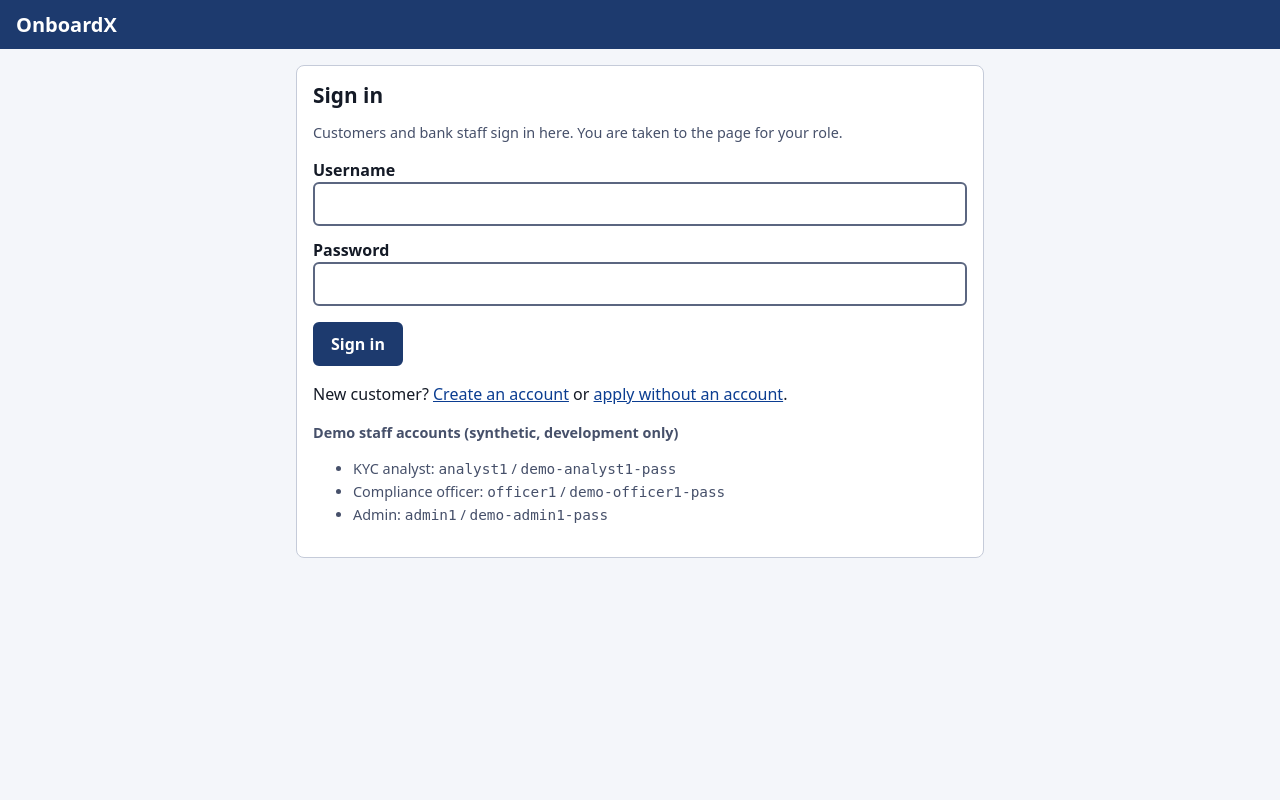
Test case: SignupPage › AC-14.8: the sign-in page shows the pending-approval message
Step 1. Type "officer.two" into the field labelled "Username" → coordinates (640, 204), box [313,182,967,226]
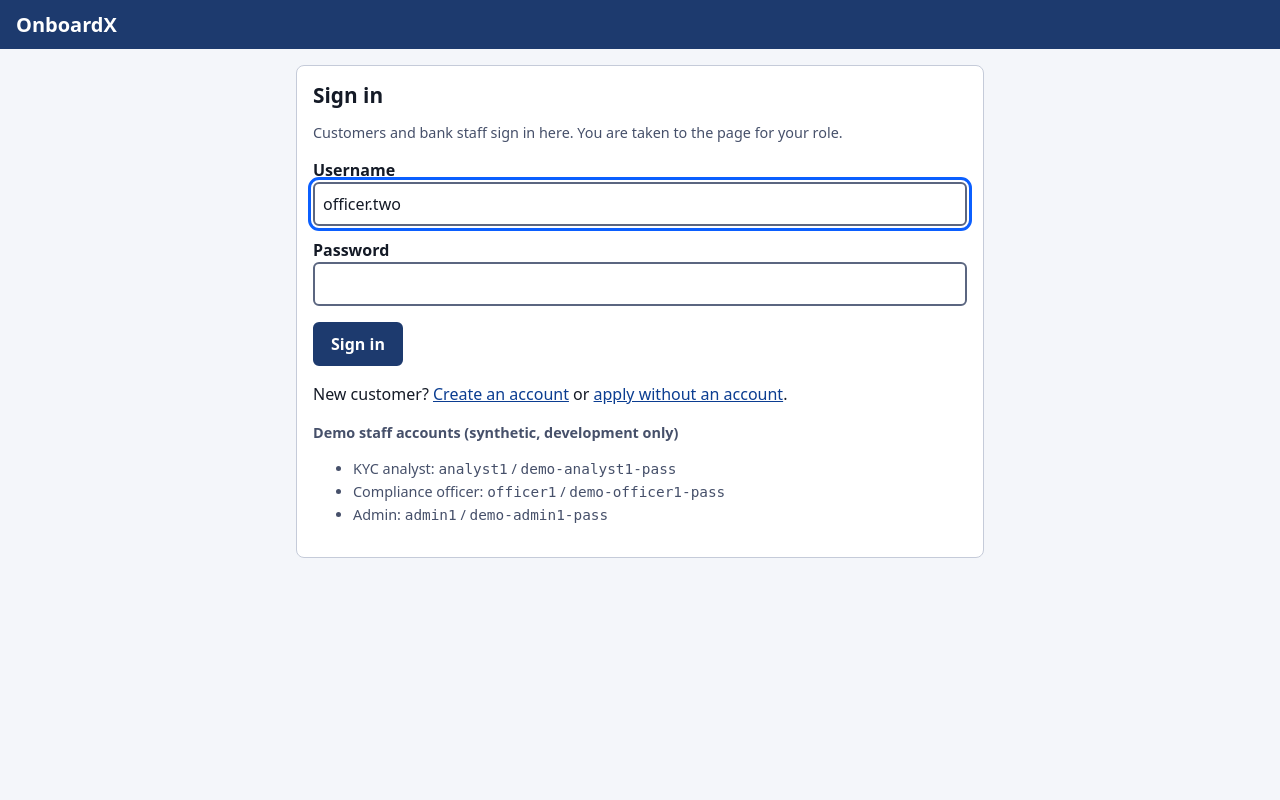
Step 2. Type "synthetic-pass" into the password field labelled "Password" → coordinates (640, 284), box [313,262,967,306]
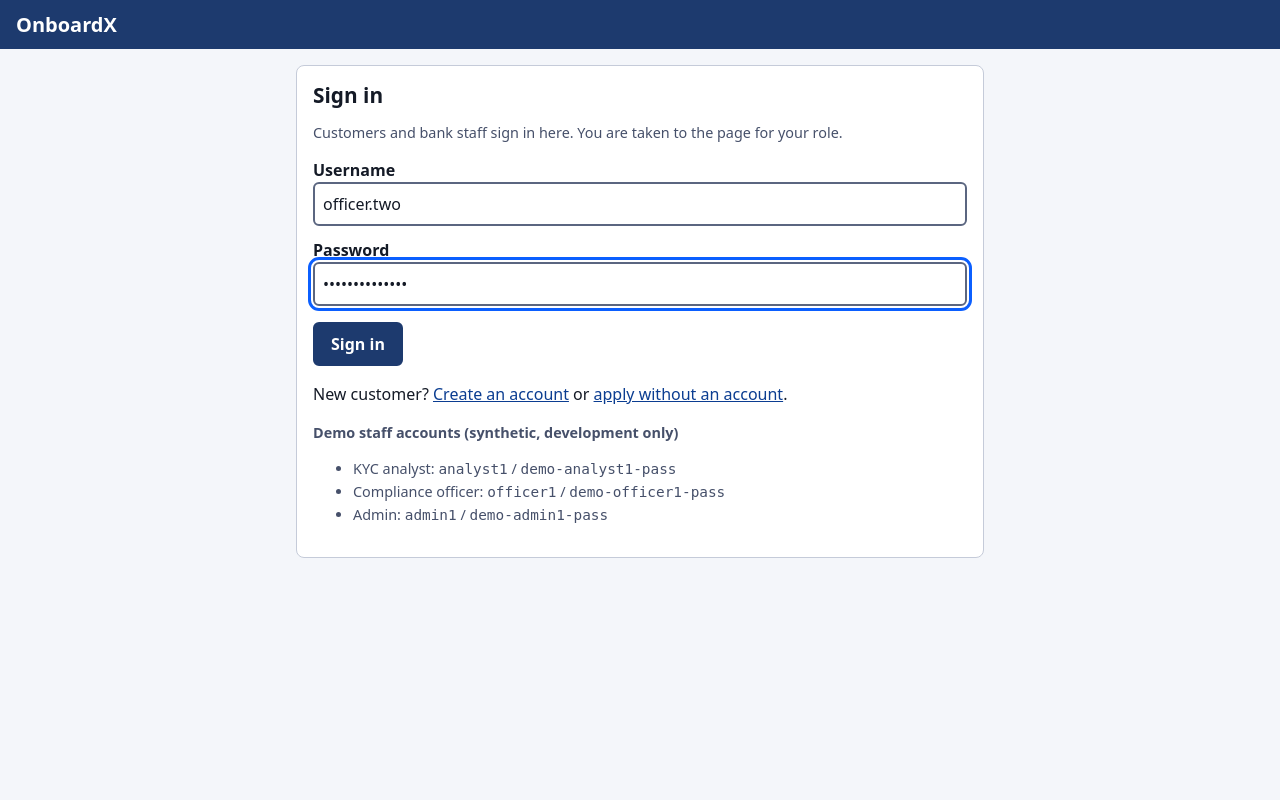
Step 3. Click the button "Sign in" → coordinates (358, 344), box [313,322,403,366]
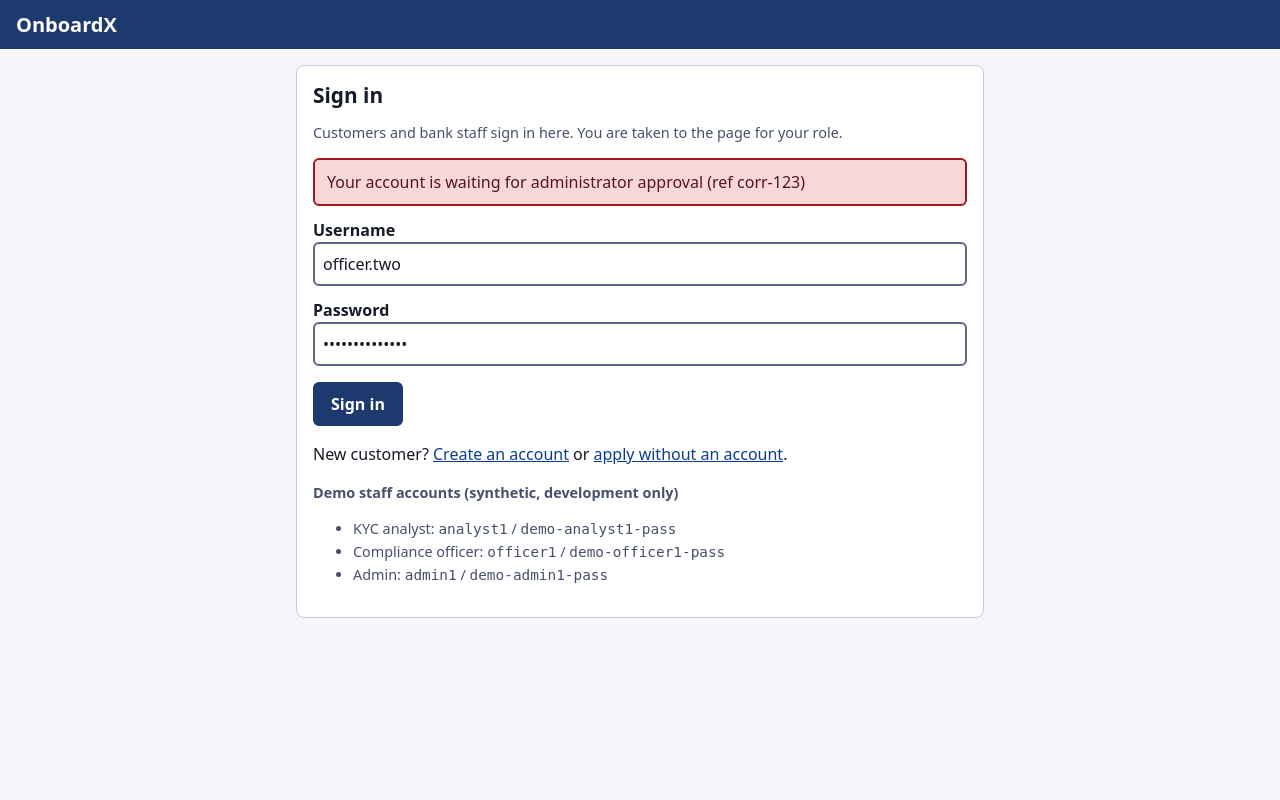
expect the message shows "waiting for administrator approval": met, box [327,171,805,193]
